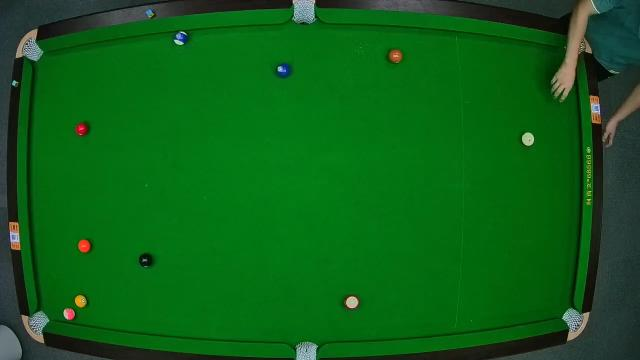bag1: (20, 35, 44, 62)
bag2: (291, 0, 317, 26)
bag4: (26, 310, 50, 336)
bag5: (296, 340, 318, 360)
bag6: (562, 306, 588, 336)
ball0: (520, 130, 536, 148)
ball1: (74, 295, 88, 309)
ball10: (173, 31, 189, 47)
ball11: (344, 296, 360, 310)
ball12: (64, 308, 76, 322)
ball2: (276, 62, 292, 80)
ball3: (74, 122, 90, 138)
ball5: (77, 238, 91, 255)
ball7: (389, 48, 403, 66)
ball8: (140, 253, 154, 269)
